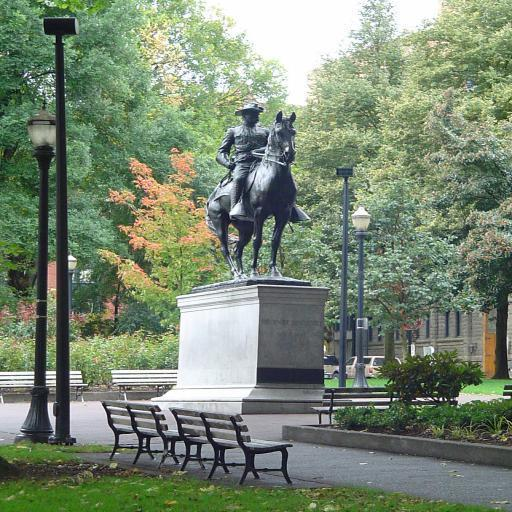horse: (204, 108, 298, 278)
